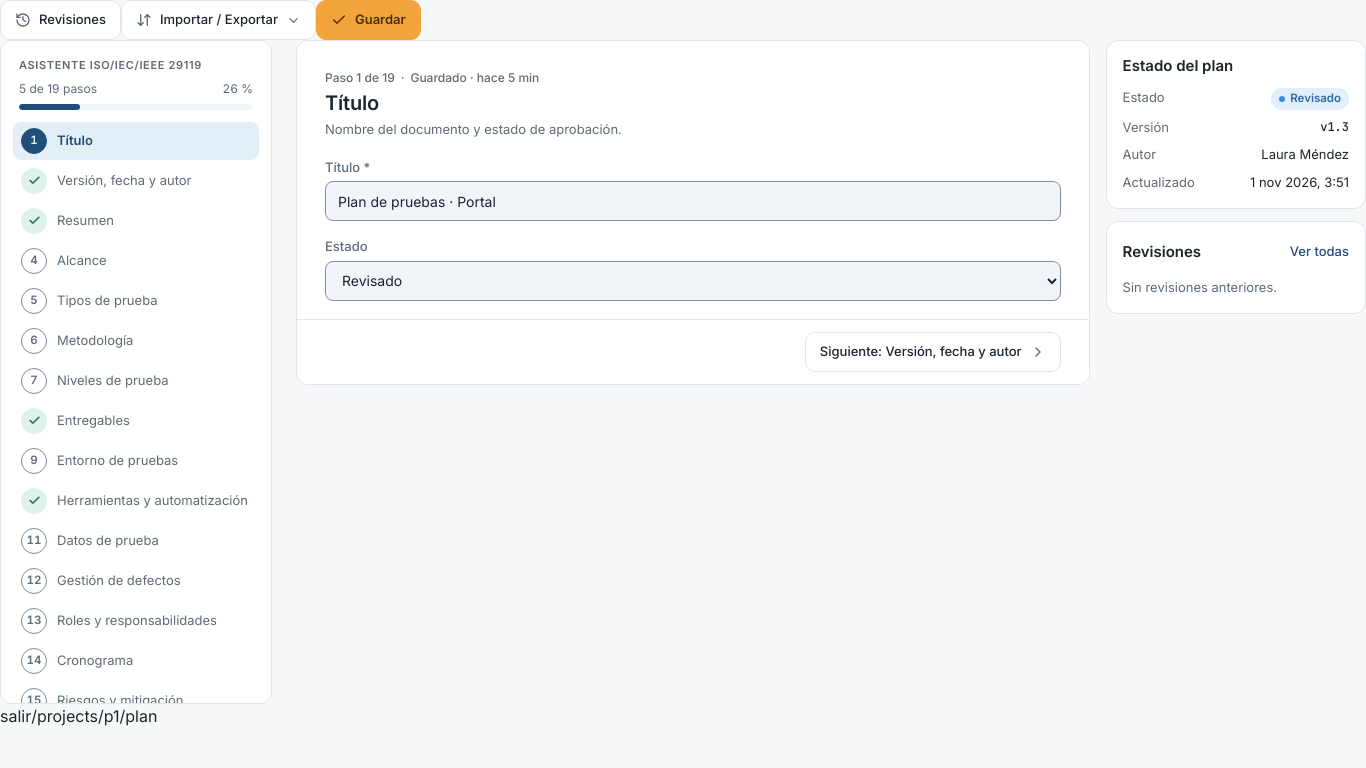
Test: plan wizard · leaving with unsaved changes (RED-V3k guard) › asks before leaving, stays on «Seguir editando», and leaves freely once saved
In the field labelled "Título *": (693, 201) x1=325 y1=181 x2=1061 y2=221, type " v2"
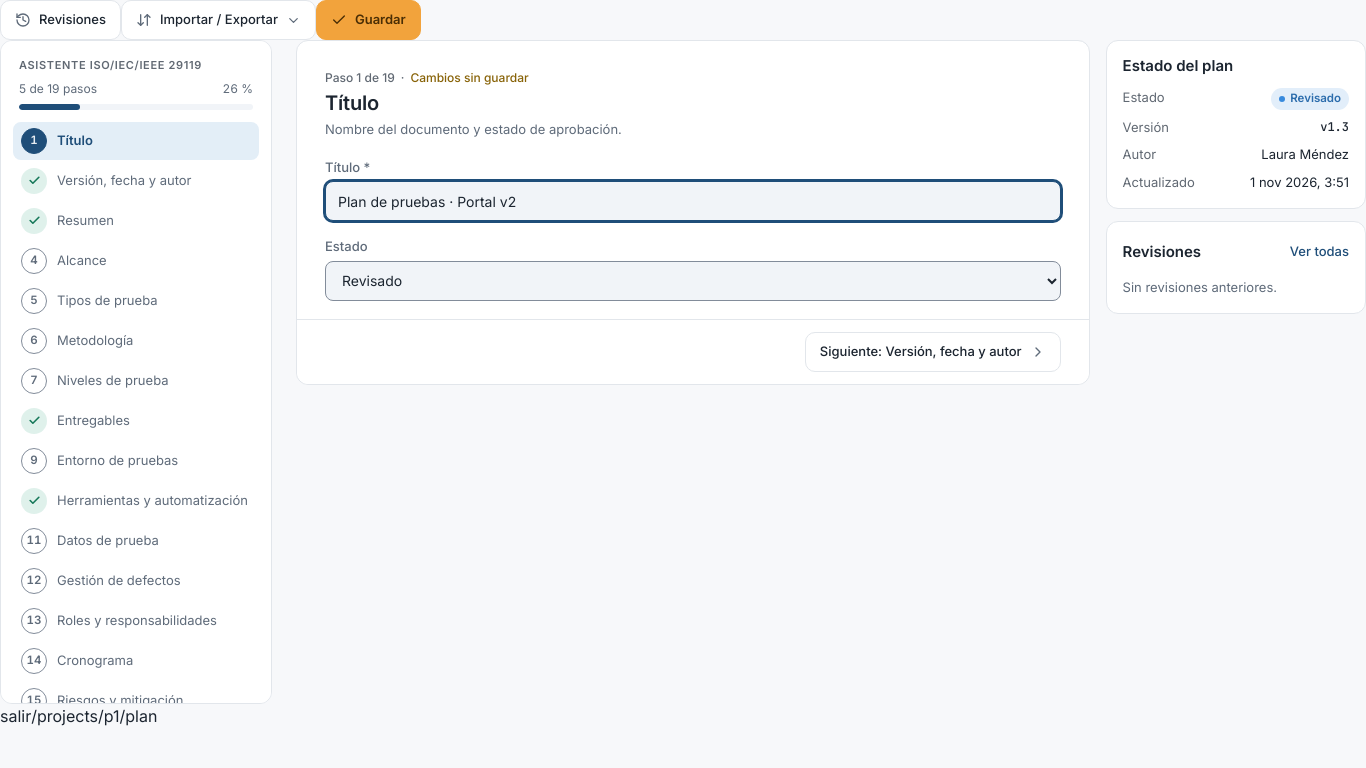
Click the link "salir": (16, 716) x1=0 y1=706 x2=31 y2=726
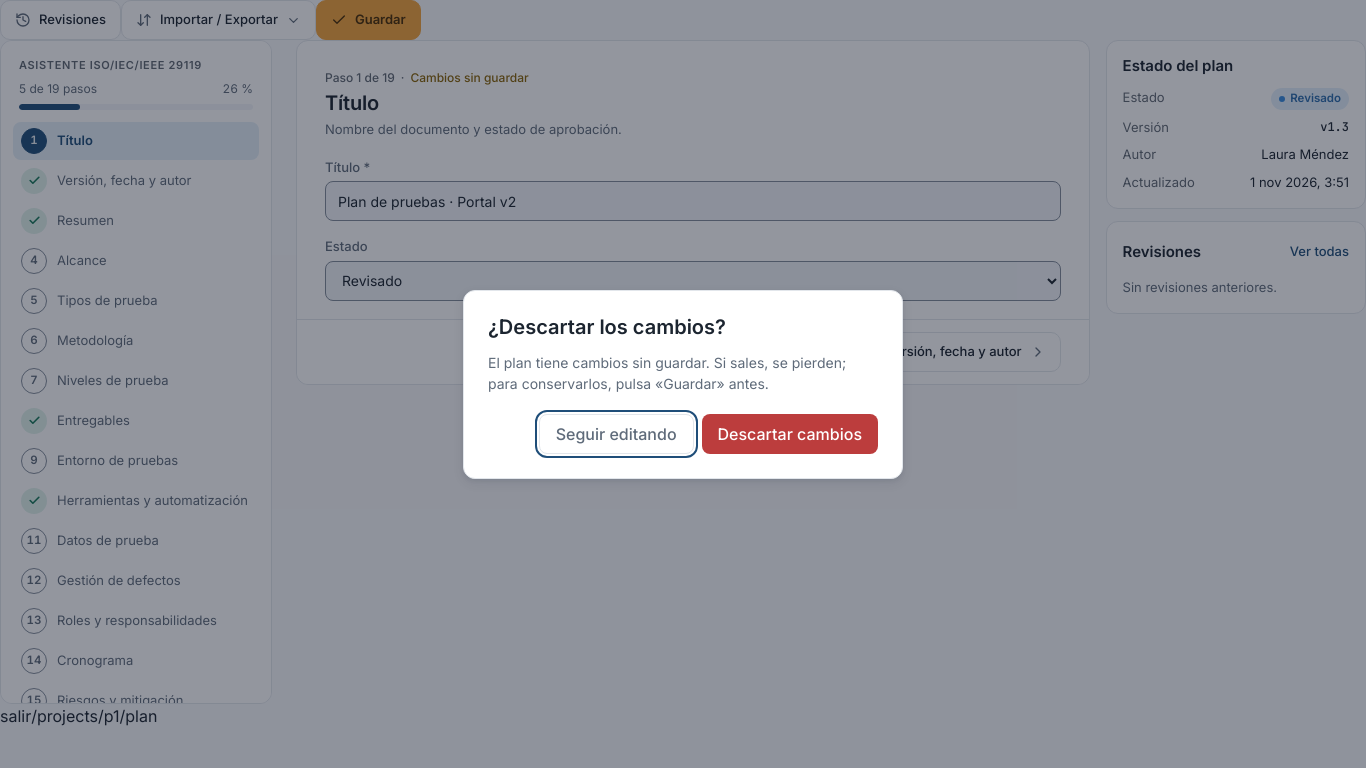
Result: the dialog "¿Descartar los cambios?" shows "El plan tiene cambios sin guardar" at x1=488 y1=354 x2=846 y2=392
Click the button "Seguir editando": (616, 434) x1=539 y1=414 x2=694 y2=454
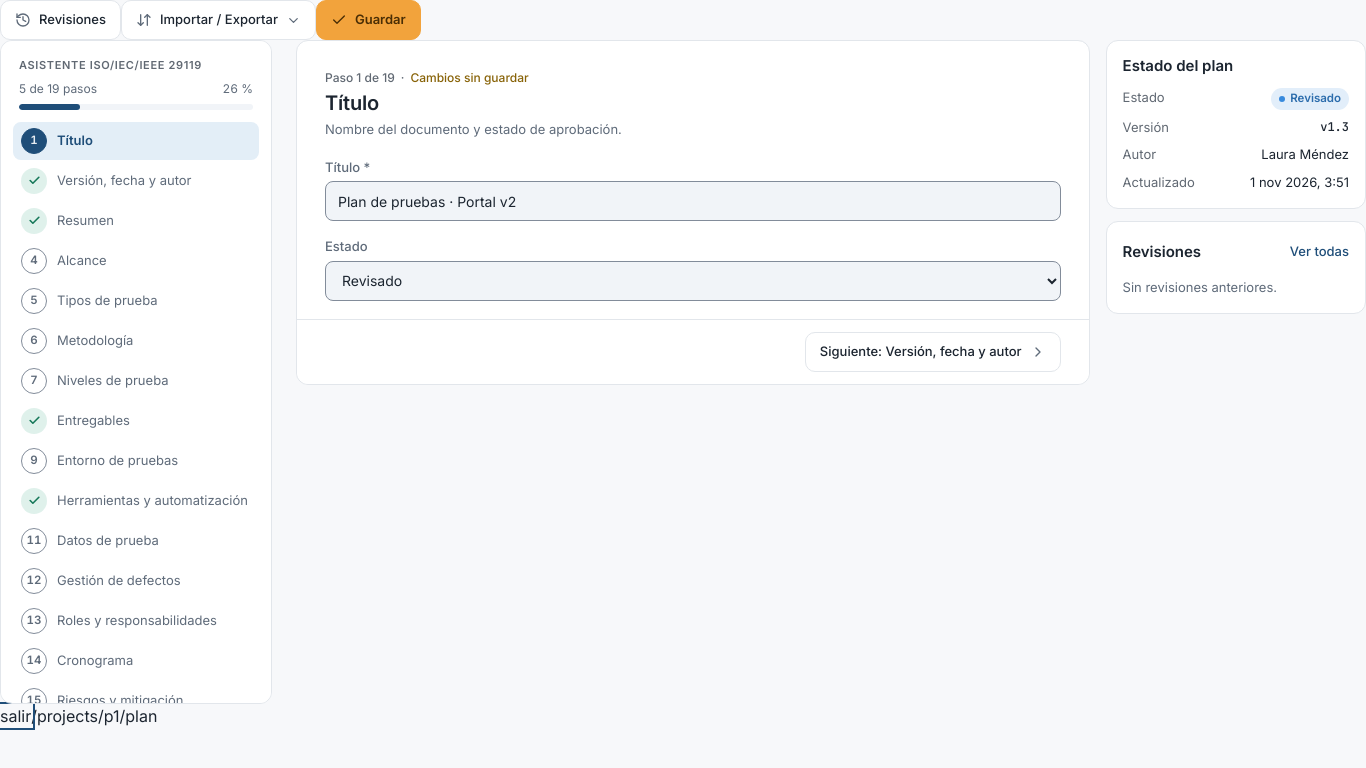
Expected: the text with test id "where" reads "/projects/p1/plan", x1=31 y1=706 x2=157 y2=726
Click the button "Guardar": (368, 20) x1=316 y1=0 x2=421 y2=40
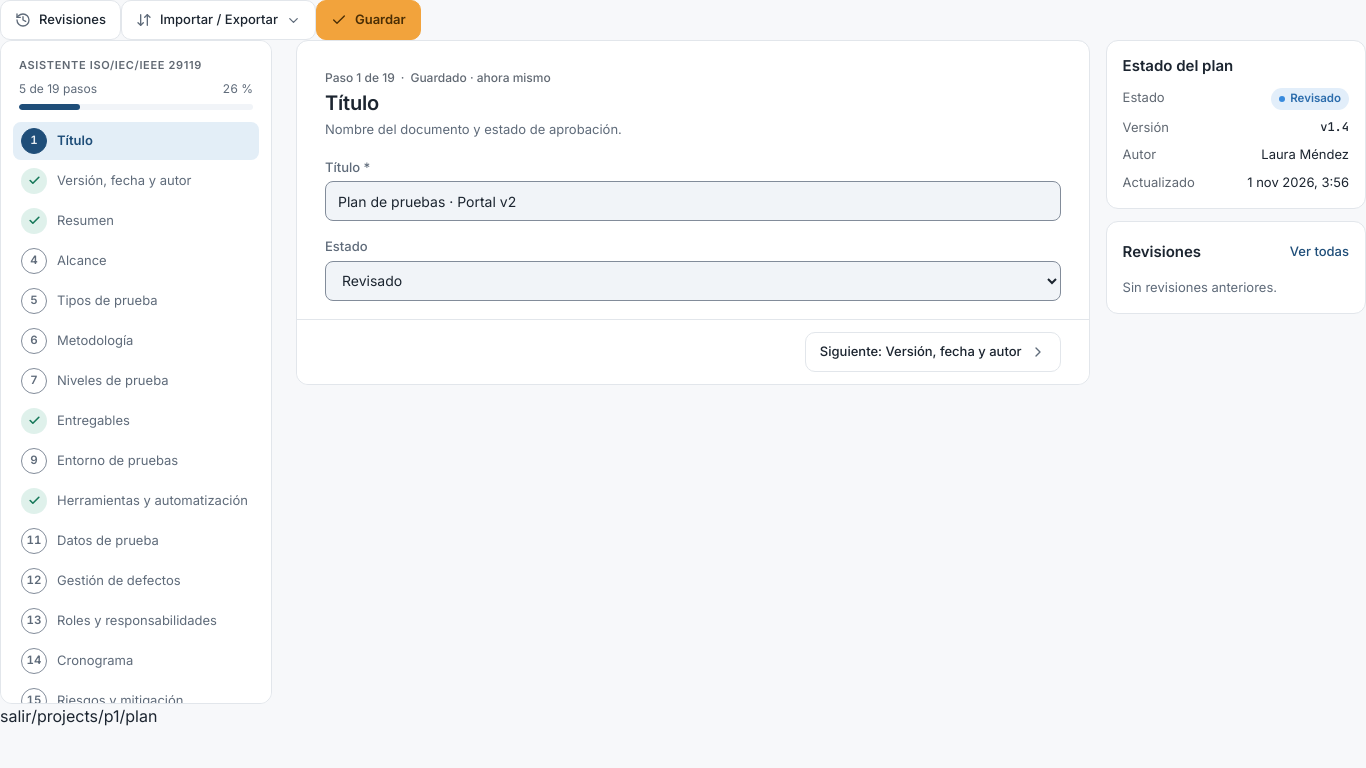
Result: the text "Guardado · ahora mismo" is shown at x1=410 y1=69 x2=551 y2=87
Click the link "salir": (16, 716) x1=0 y1=706 x2=31 y2=726
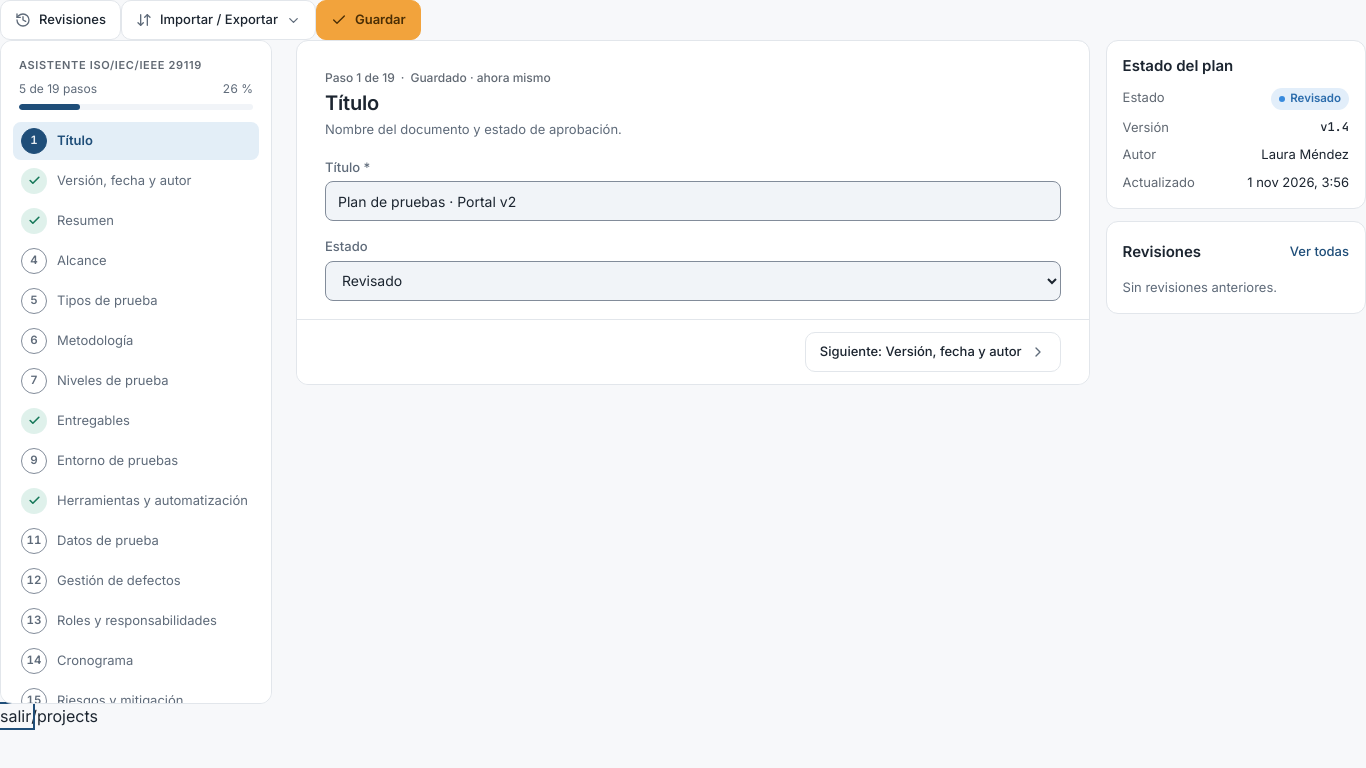
Result: the text with test id "where" reads "/projects" at x1=31 y1=706 x2=98 y2=726
